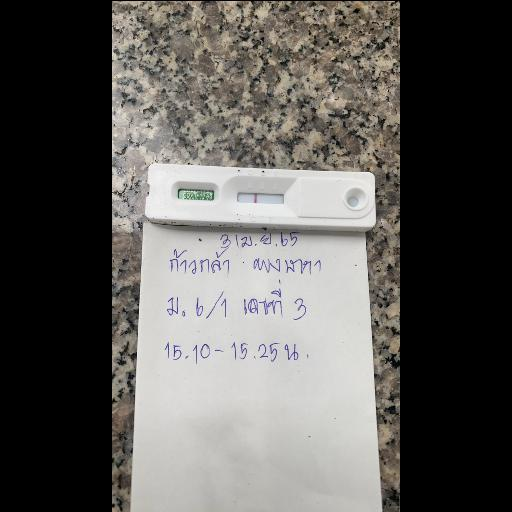Neg: (144, 162, 376, 226)
